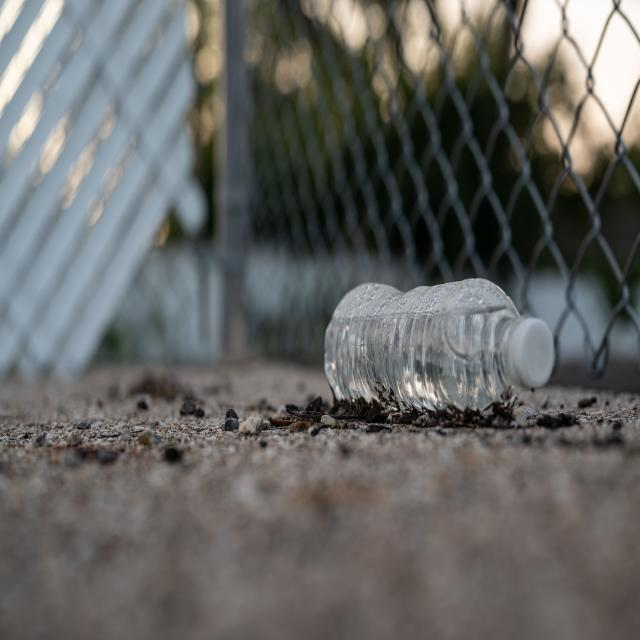Bottle: (325, 279, 553, 410)
